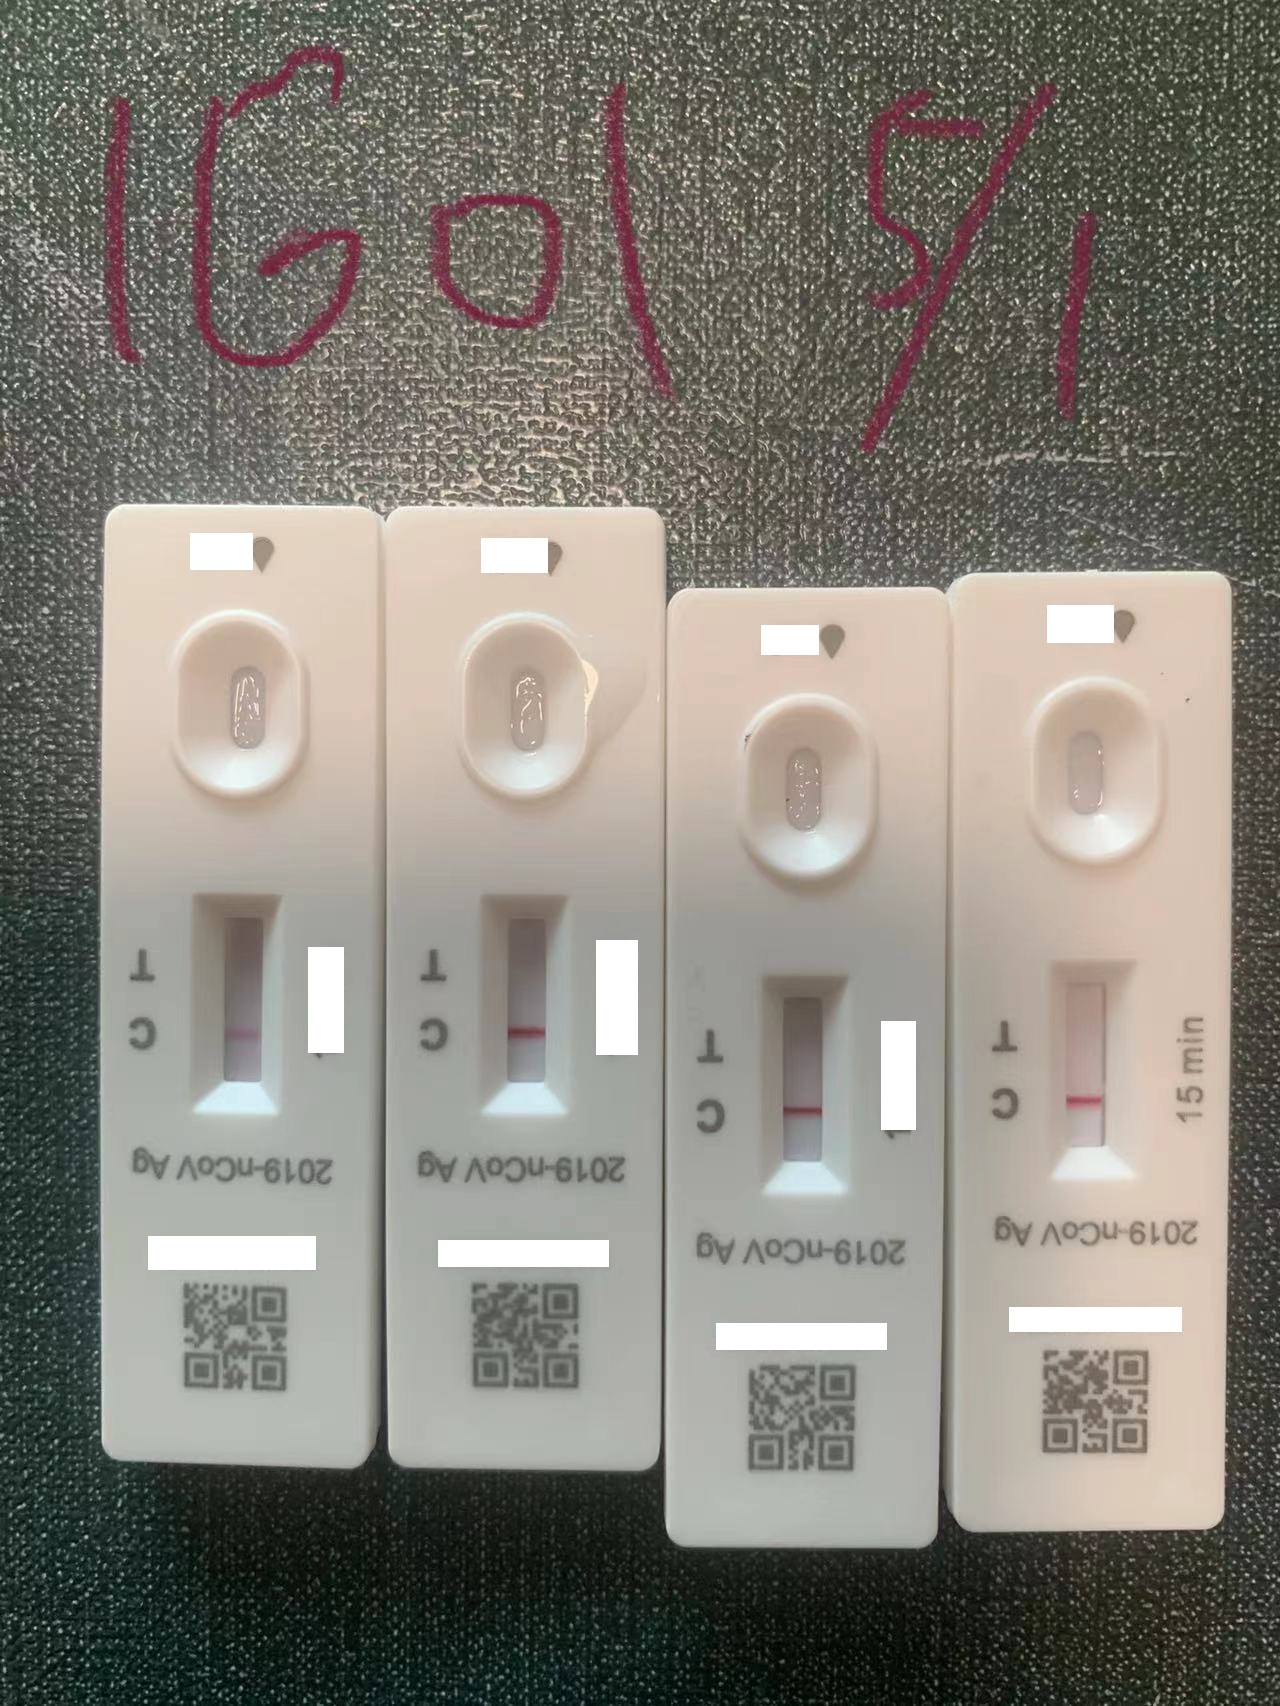negative: (473, 893, 570, 1119), (1042, 963, 1139, 1183), (179, 889, 273, 1114), (764, 967, 838, 1202)
